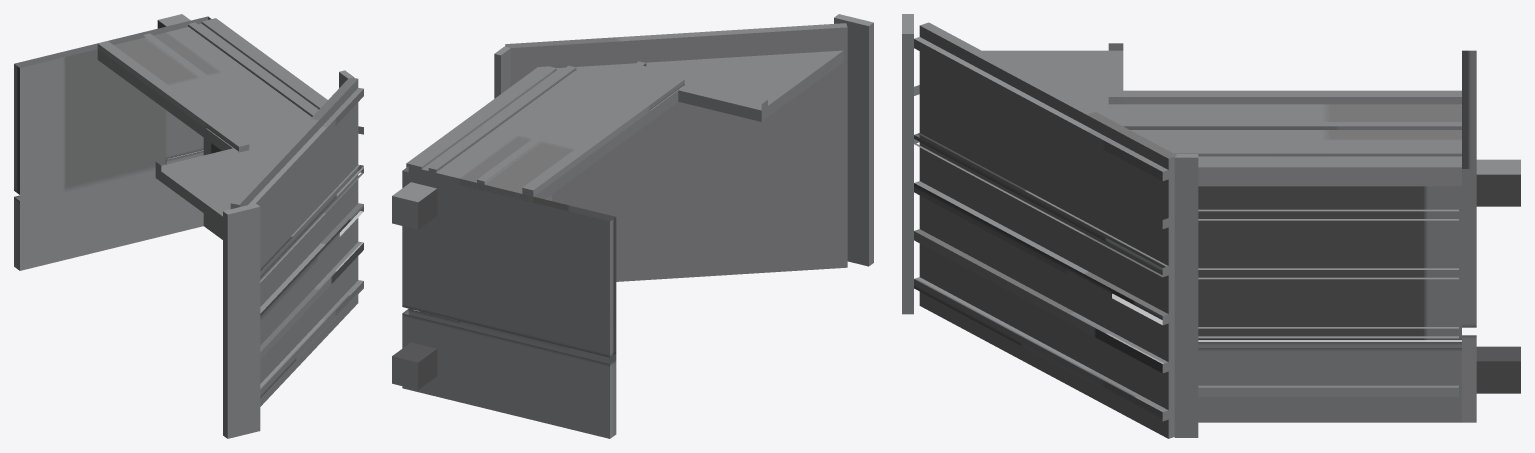
3 renders of one model, left to right at view 1: azimuth 30°, elevation 25°; view 2: azimuth 150°, elevation 25°; view 3: azimuth 270°, elevation 25°, orthographic. The views are drawn at different scales.
Bounding box in the file's own units: 1.18 × 1.05 × 2.1.
